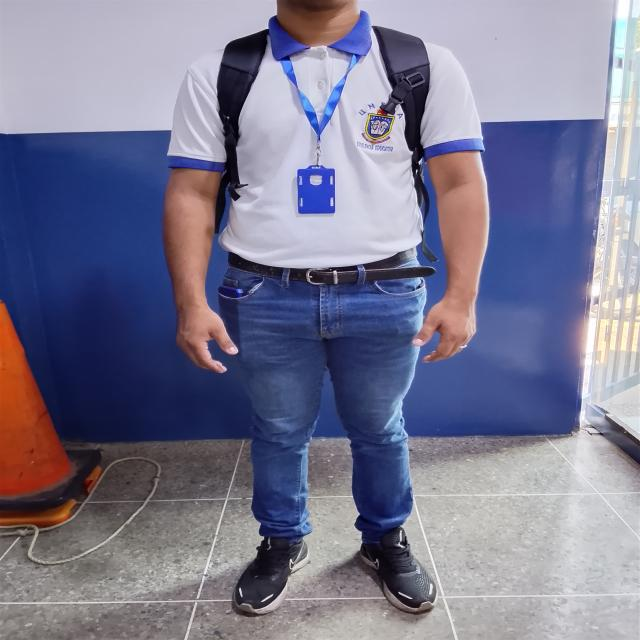carnet: (297, 168, 335, 214)
uniforme_superior: (165, 10, 486, 269)
